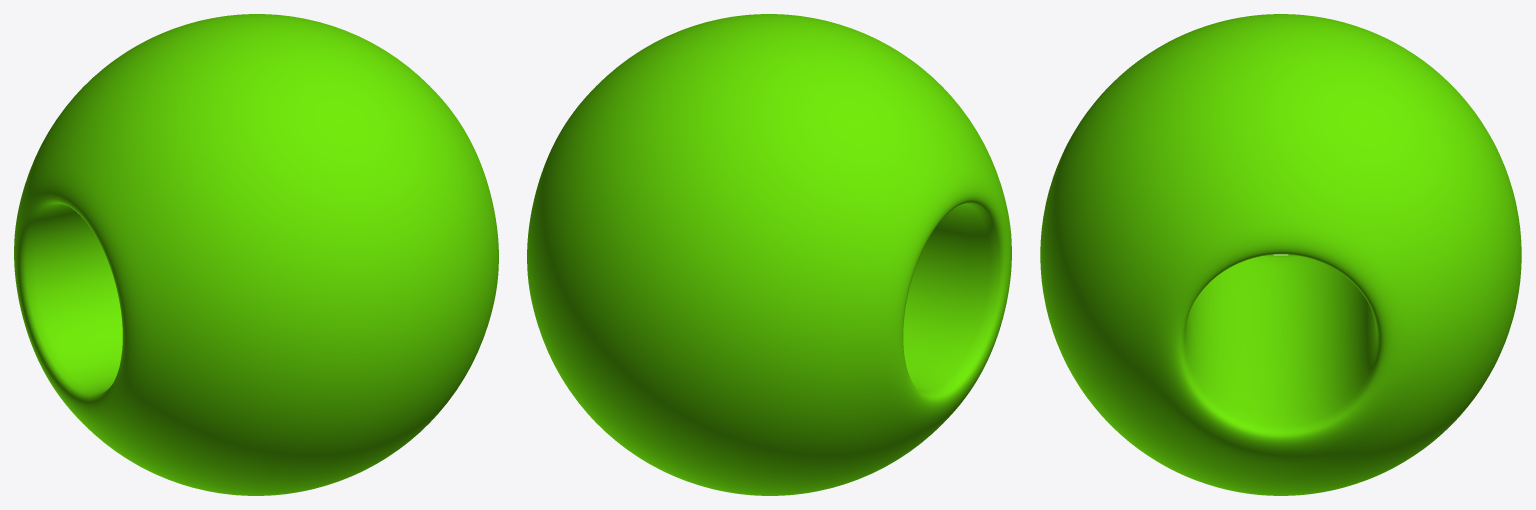
The picture shows the model from 3 angles, left to right: view 1: azimuth 30°, elevation 25°; view 2: azimuth 150°, elevation 25°; view 3: azimuth 270°, elevation 25°; orthographic projection.
Parts seen in each view (by area): view 1: green; view 2: green; view 3: green.
Boxes of the visible parts, <box> form: green: <box>14,14,498,495</box>; green: <box>527,14,1011,495</box>; green: <box>1040,14,1521,495</box>.
Bounding box in the file's own units: 1.75 × 1.97 × 1.97.
